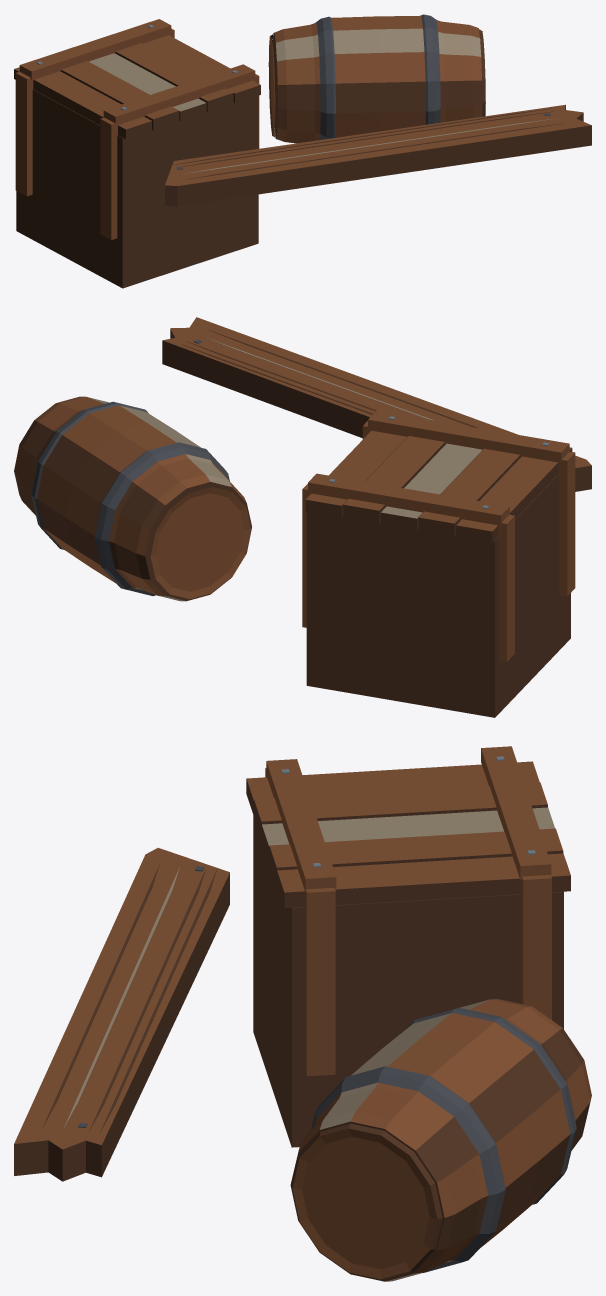
File: debris.glb
3 renders of one model, top to bottom at view 1: azimuth 30°, elevation 25°; view 2: azimuth 150°, elevation 25°; view 3: azimuth 270°, elevation 25°, orthographic. The views are drawn at different scales.
Parts seen in each view (by area): view 1: crate, barrel, plank; view 2: crate, barrel, plank; view 3: crate, barrel, plank.
Boxes of the visible parts, x1,y1,x2,y2 form: crate: [14, 19, 260, 288]; barrel: [268, 14, 485, 143]; plank: [165, 104, 591, 206]; crate: [302, 410, 575, 717]; barrel: [14, 396, 251, 601]; plank: [162, 317, 591, 491]; crate: [246, 746, 570, 1147]; barrel: [290, 999, 591, 1281]; plank: [14, 848, 229, 1181].
Bounding box in the file's own units: 2.24 × 0.826 × 1.6.
